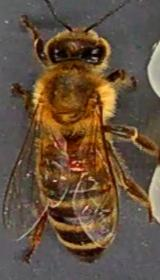varroa_mite: (68, 154, 88, 171)
